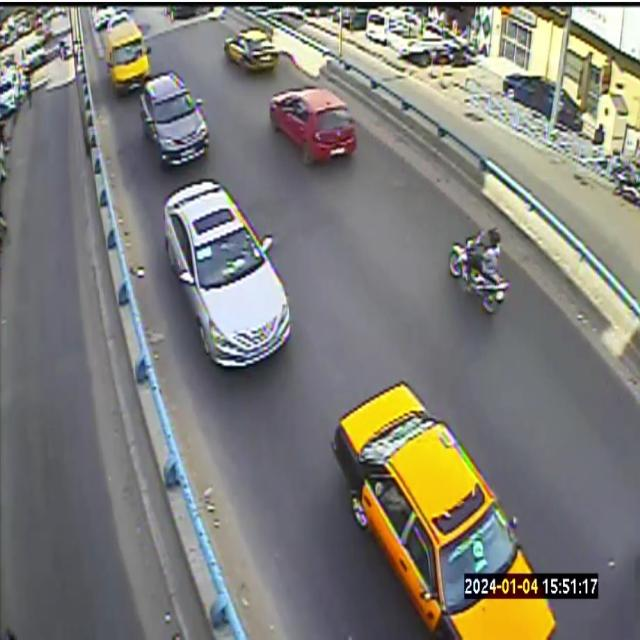car: (332, 382, 555, 639), (163, 180, 290, 367), (269, 87, 357, 164), (139, 71, 209, 165), (105, 22, 150, 93), (225, 29, 278, 70)
